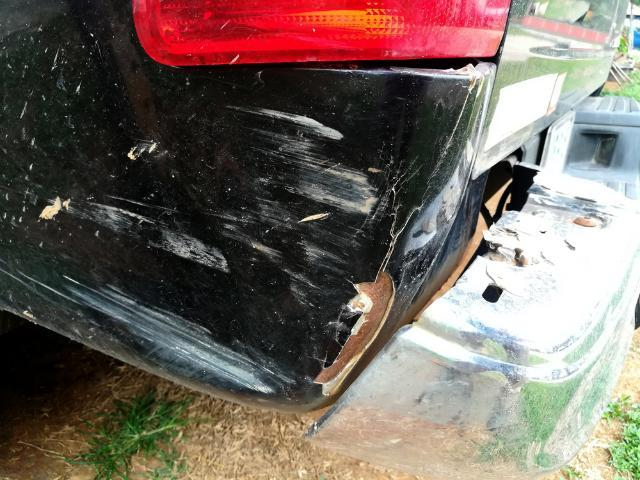crack: (312, 204, 420, 395)
scratch: (28, 97, 382, 309), (0, 263, 297, 396)
